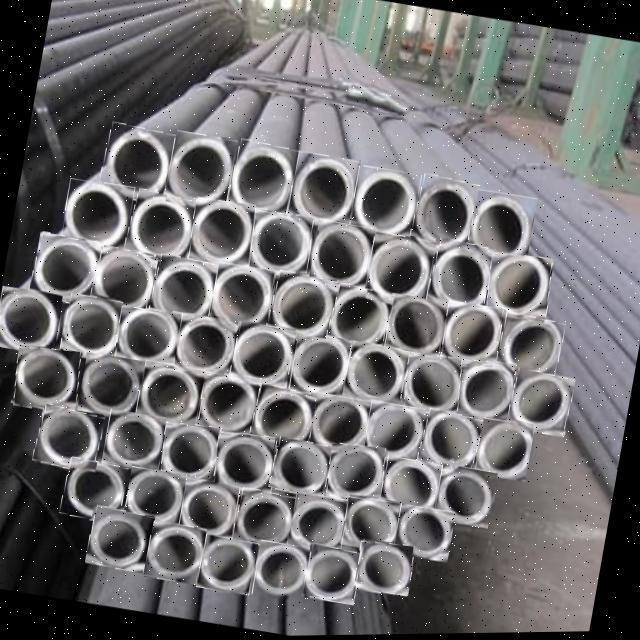pipe: (97, 122, 176, 205), (123, 188, 201, 267), (163, 130, 237, 211), (225, 140, 299, 221), (286, 151, 360, 228), (408, 174, 479, 254), (59, 178, 134, 253), (265, 270, 339, 346), (27, 231, 101, 306), (363, 233, 436, 309), (424, 239, 495, 317), (349, 167, 421, 243), (147, 254, 218, 329), (467, 190, 537, 266), (87, 245, 158, 319), (494, 313, 566, 383), (32, 404, 104, 474), (326, 283, 394, 356), (134, 360, 205, 429), (248, 384, 318, 453), (84, 505, 155, 573), (308, 220, 374, 293), (228, 322, 296, 391), (341, 341, 410, 409), (506, 370, 575, 438), (58, 457, 128, 524), (77, 352, 144, 421), (189, 199, 256, 267), (209, 263, 275, 332), (485, 255, 552, 322), (58, 293, 123, 362), (416, 409, 483, 475), (248, 211, 313, 278), (383, 295, 448, 361), (173, 312, 238, 378), (212, 433, 277, 499), (0, 287, 62, 355), (432, 464, 496, 529), (288, 335, 351, 401), (14, 347, 80, 410), (114, 307, 182, 368), (143, 521, 206, 585), (441, 303, 503, 368), (101, 409, 166, 471), (268, 437, 333, 499), (178, 479, 240, 544), (231, 488, 296, 550), (197, 372, 260, 435), (308, 393, 371, 456), (362, 402, 425, 464), (287, 492, 349, 555), (378, 457, 443, 517), (196, 534, 258, 596), (474, 419, 534, 483), (301, 545, 363, 606), (326, 444, 386, 507), (125, 467, 187, 527), (457, 361, 516, 424), (392, 504, 455, 563), (159, 423, 220, 483), (251, 541, 310, 603), (404, 356, 460, 415), (342, 497, 401, 553), (355, 542, 413, 596)
